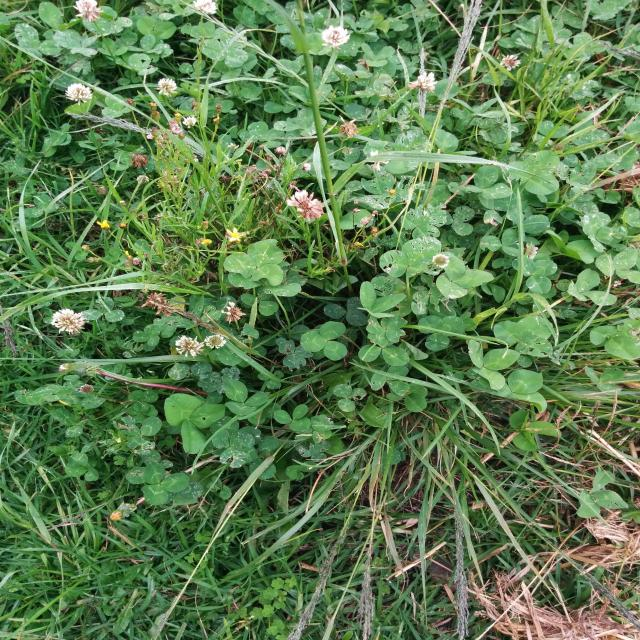Four Leaf Clover: (366, 314, 407, 346)
